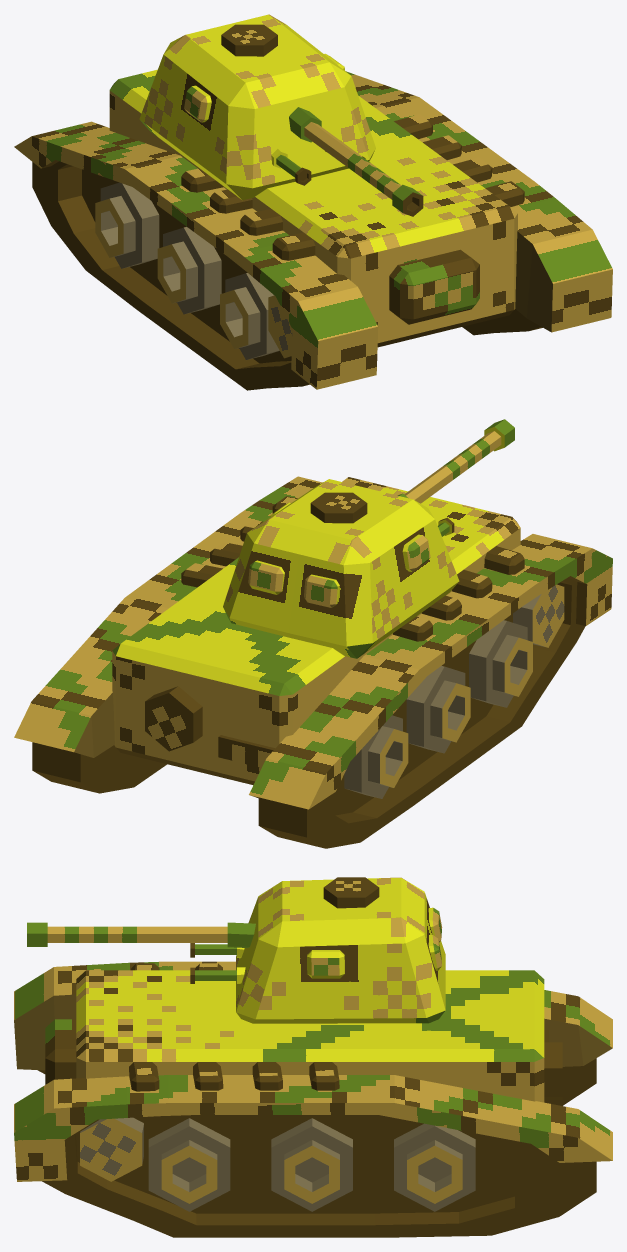
The model's file is player.glb.
3 views of the same model, one above another, from view 1: azimuth 30°, elevation 25°; view 2: azimuth 150°, elevation 25°; view 3: azimuth 270°, elevation 25° (orthographic).
Visible parts, largest first — view 1: Cube.003, Cube.001, Cube, Cube.002, Cube.006, Cube.004, Plane, Circle.001, Circle.003, Cube.007, Cube.005, Circle.002; view 2: Cube.003, Cube.001, Cube, Cube.002, Cube.006, Cube.004, Circle.004, Cube.005, Circle.001, Cube.007, Circle.003, Circle.005; view 3: Cube.001, Cube.003, Cube.002, Cube, Cube.006, Circle.001, Cube.004, Cube.007, Plane, Cube.005, Circle.003, Circle.002 (+1 smaller).
Part boxes in pixels (x1,y1,x2,y2): Cube.003: [14, 71, 612, 389]; Cube.001: [109, 69, 517, 347]; Cube: [139, 14, 375, 200]; Cube.002: [32, 161, 542, 390]; Cube.006: [95, 182, 279, 359]; Cube.004: [181, 114, 524, 260]; Plane: [389, 249, 479, 324]; Circle.001: [289, 107, 423, 216]; Circle.003: [221, 24, 277, 56]; Cube.007: [268, 295, 292, 358]; Cube.005: [184, 53, 344, 122]; Circle.002: [271, 140, 365, 185]; Cube.003: [14, 476, 612, 809]; Cube.001: [112, 477, 520, 784]; Cube: [223, 479, 459, 658]; Cube.002: [32, 577, 585, 848]; Cube.006: [344, 620, 532, 798]; Cube.004: [181, 496, 524, 641]; Circle.004: [145, 686, 202, 751]; Cube.005: [248, 502, 430, 607]; Circle.001: [397, 419, 514, 503]; Cube.007: [513, 584, 564, 647]; Circle.003: [310, 492, 367, 523]; Circle.005: [218, 735, 274, 767]; Cube.001: [76, 970, 544, 1102]; Cube.003: [14, 961, 612, 1181]; Cube.002: [37, 1058, 596, 1237]; Cube: [236, 877, 445, 1023]; Cube.006: [148, 1118, 475, 1211]; Circle.001: [27, 922, 255, 947]; Cube.004: [129, 963, 339, 1091]; Cube.007: [80, 1117, 143, 1181]; Plane: [45, 1019, 76, 1084]; Cube.005: [307, 907, 442, 978]; Circle.003: [323, 877, 379, 908]; Circle.002: [190, 943, 245, 983].
Size of the model in its own units: 3.45 by 2.99 by 6.18.
Materials: 1 (1 with a texture image).
